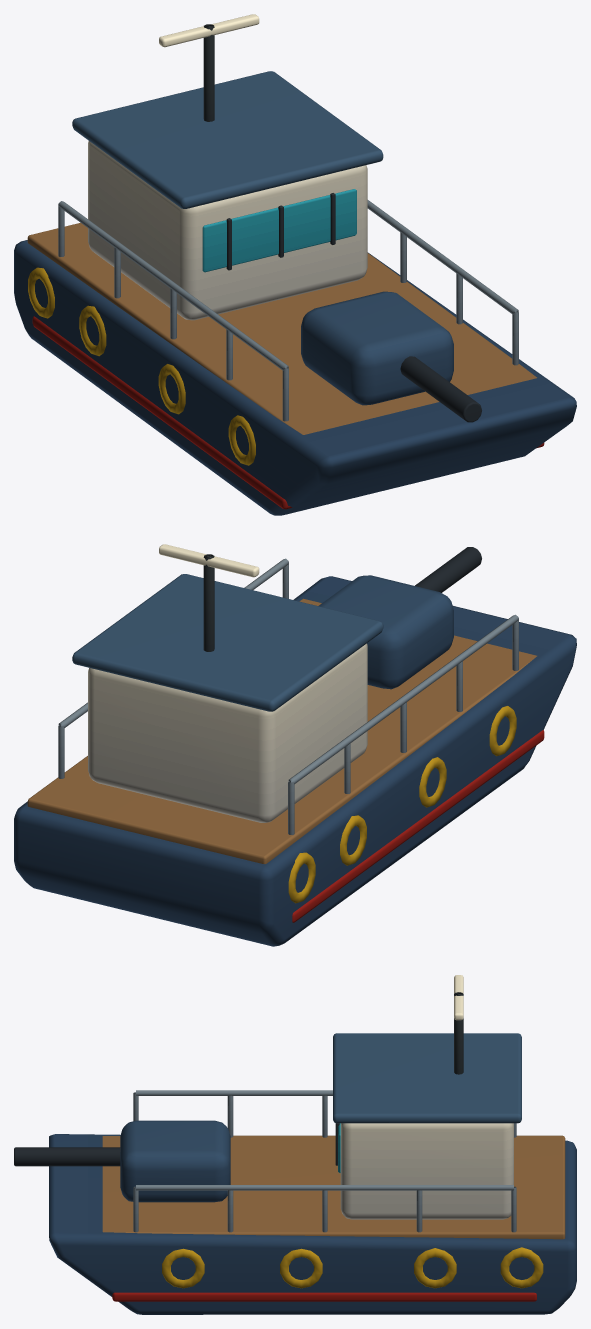
File: barge.glb
3 views of the same model, one above another, from view 1: azimuth 30°, elevation 25°; view 2: azimuth 150°, elevation 25°; view 3: azimuth 270°, elevation 25° (orthographic). The views are drawn at different scales.
Visible parts, largest first — view 1: Boat hull, Deck, Cabin roof, Cabin, Barge turret, Cabin window, Waterline stripe, Deck handrail, Barge gun, Deck handrail.001, Radar, Mast (+4 smaller); view 2: Boat hull, Cabin, Cabin roof, Deck, Barge turret, Waterline stripe, Deck handrail, Barge gun, Radar, Mast, Rubber fender.003, Rubber fender.001 (+3 smaller); view 3: Boat hull, Deck, Cabin roof, Cabin, Barge turret, Waterline stripe, Deck handrail.001, Barge gun, Deck handrail, Rubber fender.007, Rubber fender.006, Rubber fender.005 (+2 smaller).
Part boxes in pixels (x1,y1,x2,y2): Boat hull: [14, 240, 576, 515]; Deck: [27, 223, 536, 434]; Cabin roof: [72, 71, 383, 208]; Cabin: [88, 141, 367, 320]; Barge turret: [301, 291, 453, 405]; Cabin window: [202, 189, 356, 272]; Waterline stripe: [32, 316, 544, 509]; Deck handrail: [58, 201, 288, 370]; Barge gun: [400, 356, 481, 422]; Deck handrail.001: [367, 200, 518, 314]; Radar: [159, 14, 259, 47]; Mast: [203, 24, 214, 121]; Boat hull: [14, 576, 576, 946]; Cabin: [88, 643, 367, 822]; Cabin roof: [72, 574, 383, 711]; Deck: [27, 598, 536, 864]; Barge turret: [318, 575, 453, 689]; Waterline stripe: [292, 730, 544, 922]; Deck handrail: [288, 614, 518, 784]; Barge gun: [415, 547, 481, 592]; Radar: [159, 544, 259, 577]; Mast: [203, 554, 214, 651]; Rubber fender.003: [288, 852, 315, 903]; Rubber fender.001: [419, 757, 446, 807]; Boat hull: [49, 1134, 576, 1314]; Deck: [102, 1135, 565, 1239]; Cabin roof: [333, 1033, 521, 1123]; Cabin: [340, 1123, 513, 1219]; Barge turret: [120, 1120, 230, 1202]; Waterline stripe: [112, 1292, 536, 1301]; Deck handrail.001: [136, 1185, 513, 1190]; Barge gun: [14, 1147, 120, 1166]; Deck handrail: [136, 1090, 332, 1095]; Rubber fender.007: [500, 1247, 543, 1288]; Rubber fender.006: [414, 1248, 456, 1288]; Rubber fender.005: [280, 1248, 322, 1288].
Bounding box in the file's own units: 3.26 × 3.8 × 7.15.
8 materials, 8 textured.
